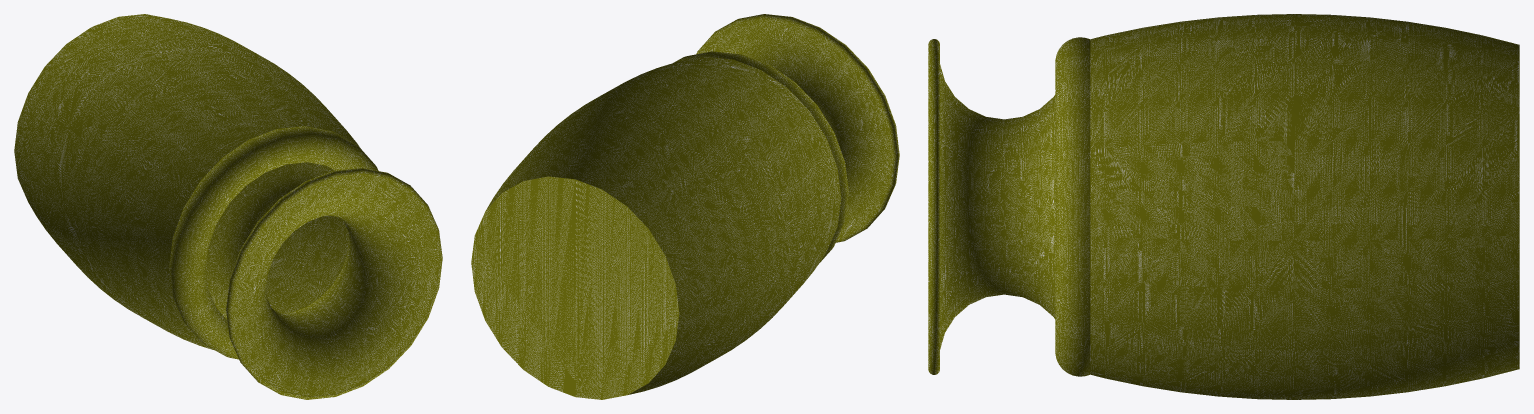
The model's file is model_scale.obj.
3 renders of one model, left to right at view 1: azimuth 30°, elevation 25°; view 2: azimuth 150°, elevation 25°; view 3: azimuth 270°, elevation 25°, orthographic. The views are drawn at different scales.
Parts seen in each view (by area): view 1: mesh1_mesh1-geometry; view 2: mesh1_mesh1-geometry; view 3: mesh1_mesh1-geometry.
Part boxes in pixels (bbox=[...]): mesh1_mesh1-geometry: bbox=[14, 14, 442, 399]; mesh1_mesh1-geometry: bbox=[471, 14, 899, 399]; mesh1_mesh1-geometry: bbox=[928, 14, 1519, 399].
Size of the model in its own units: 0.1359 by 0.1359 by 0.2073.
